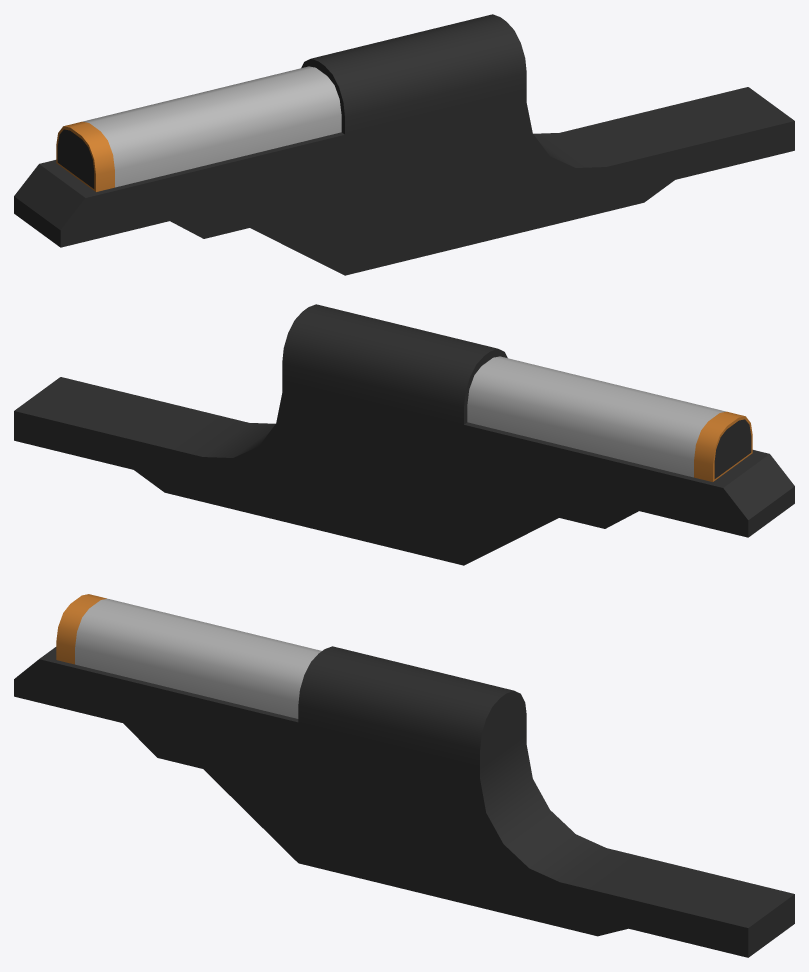
File: Body_AR_1.gltf
The picture shows the model from 3 angles, top to bottom: view 1: azimuth 30°, elevation 25°; view 2: azimuth 150°, elevation 25°; view 3: azimuth 330°, elevation 25°; orthographic projection.
Visible parts, largest first — view 1: Body_AR_1; view 2: Body_AR_1; view 3: Body_AR_1.
Part boxes in pixels (left/top/right/bottom): Body_AR_1: left=14, top=14, right=794, bottom=275; Body_AR_1: left=14, top=304, right=794, bottom=565; Body_AR_1: left=14, top=594, right=794, bottom=957.
Size of the model in its own units: 1.24 by 0.3149 by 0.1366.
